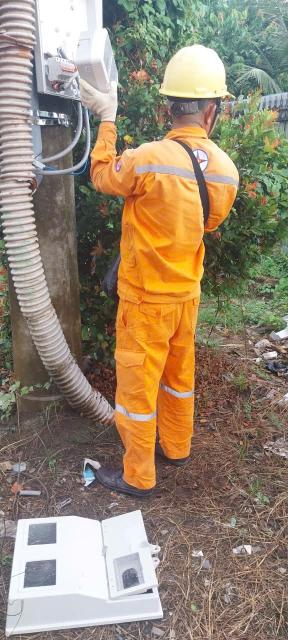gloves: (75, 68, 122, 128)
helmet: (145, 44, 236, 108)
shoes: (81, 448, 162, 499)
